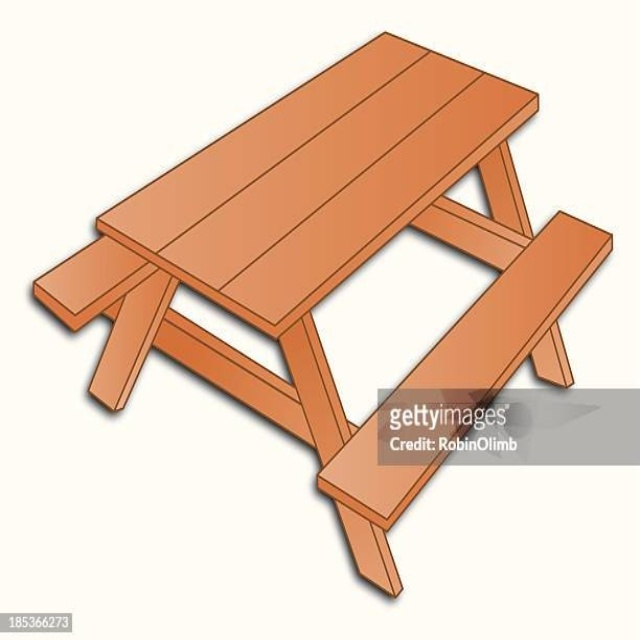obstacle: (33, 33, 612, 595)
